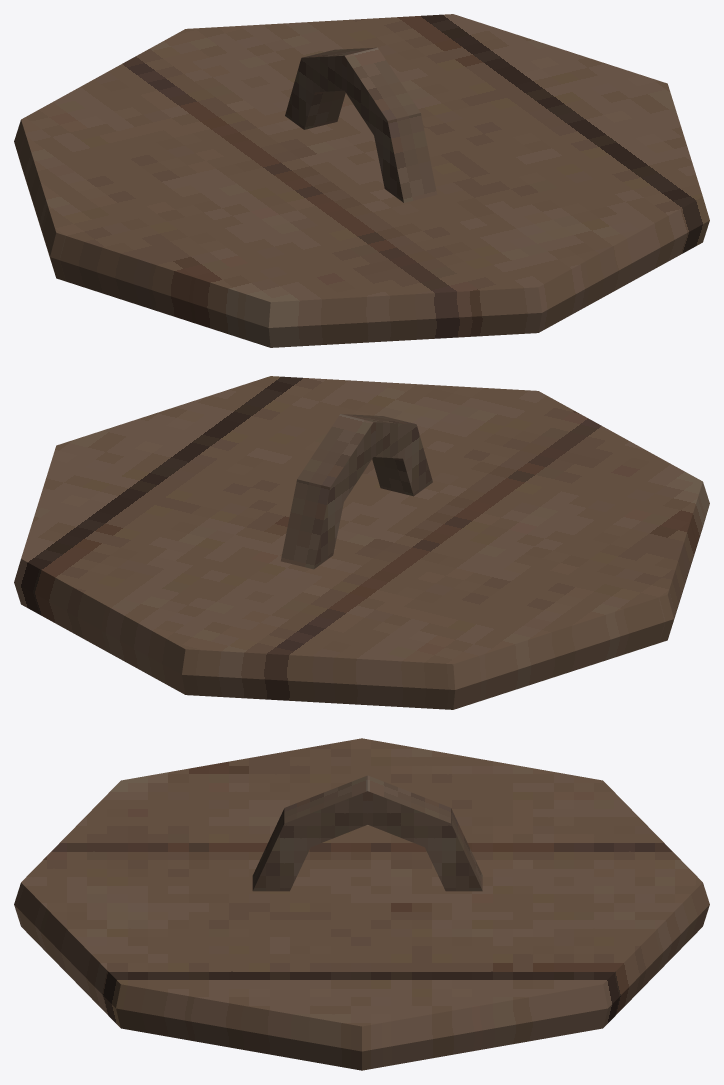
Rendered from barrel_lid_alt2.glb.
3 views of the same model, one above another, from view 1: azimuth 30°, elevation 25°; view 2: azimuth 150°, elevation 25°; view 3: azimuth 270°, elevation 25° (orthographic). The views are drawn at different scales.
Parts seen in each view (by area): view 1: barrel_lid_alt2; view 2: barrel_lid_alt2; view 3: barrel_lid_alt2.
Part boxes in pixels (x1=…): barrel_lid_alt2: x1=14, y1=14, x2=709, y2=347; barrel_lid_alt2: x1=14, y1=376, x2=709, y2=709; barrel_lid_alt2: x1=14, y1=738, x2=709, y2=1070.
Size of the model in its own units: 0.7669 by 0.1755 by 0.7669.
Materials: 2 (2 with a texture image).
